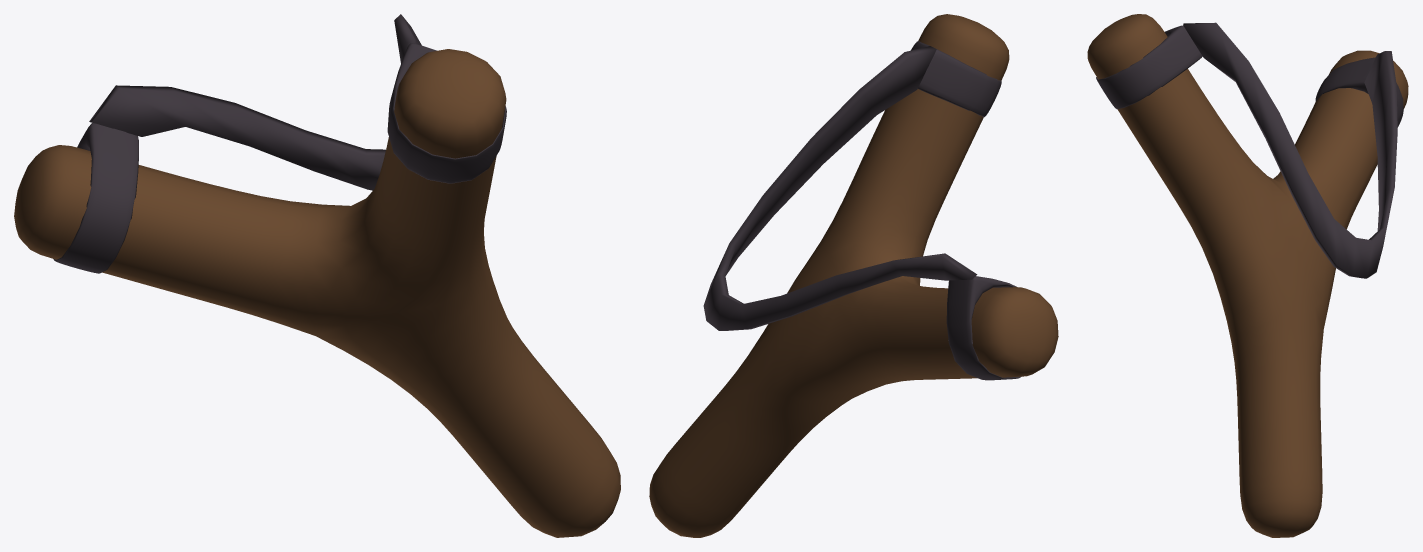
The model's file is SlingShot.fbx.
The picture shows the model from 3 angles, left to right: view 1: azimuth 30°, elevation 25°; view 2: azimuth 150°, elevation 25°; view 3: azimuth 270°, elevation 25°; orthographic projection. The views are drawn at different scales.
Visible parts, largest first — view 1: Cube, Cube.017, Cube.018; view 2: Cube, Cube.017, Cube.018; view 3: Cube, Cube.017, Cube.018.
Boxes of the visible parts, x1,y1,x2,y2 form: Cube: [14, 49, 620, 537]; Cube.017: [89, 14, 421, 190]; Cube.018: [53, 43, 506, 273]; Cube: [649, 14, 1058, 537]; Cube.017: [703, 46, 977, 330]; Cube.018: [911, 41, 1021, 380]; Cube: [1087, 14, 1408, 537]; Cube.017: [1183, 22, 1397, 278]; Cube.018: [1096, 25, 1403, 127].
Bounding box in the file's own units: 1370 × 1475 × 974.
